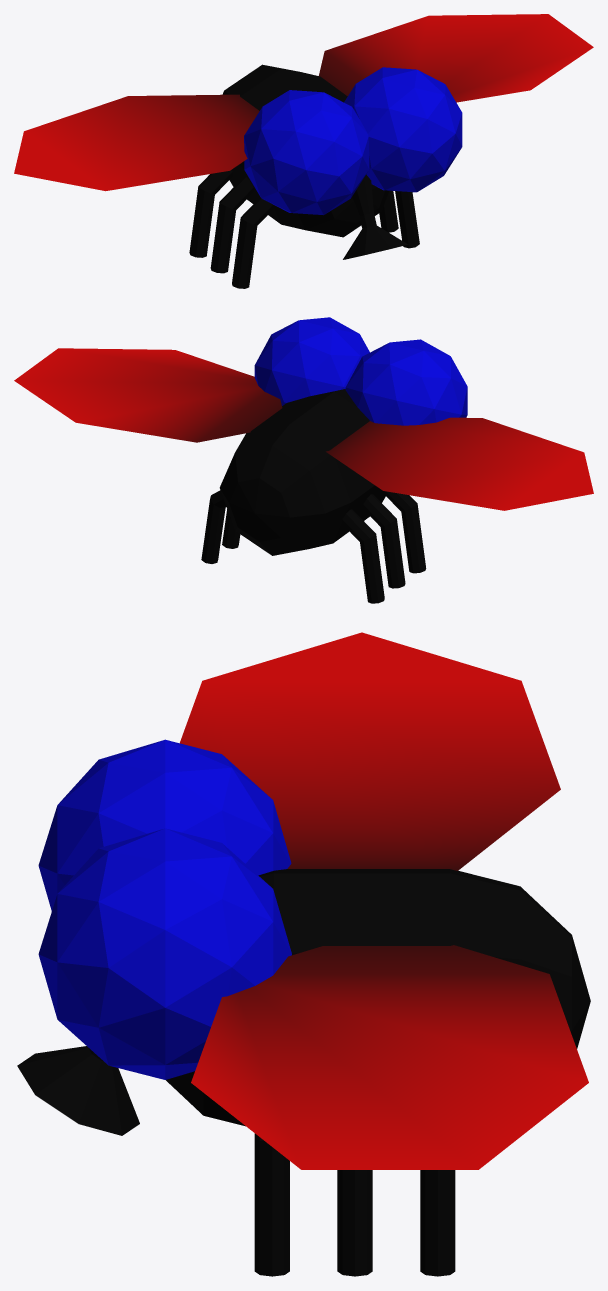
The model's file is fly.fbx.
3 views of the same model, one above another, from view 1: azimuth 30°, elevation 25°; view 2: azimuth 150°, elevation 25°; view 3: azimuth 270°, elevation 25° (orthographic). The views are drawn at different scales.
Visible parts, largest first — view 1: cartoon_fly; view 2: cartoon_fly; view 3: cartoon_fly.
Boxes of the visible parts, x1,y1,x2,y2 form: cartoon_fly: (14,14,593,288); cartoon_fly: (14,317,593,603); cartoon_fly: (17,632,590,1276).
Size of the model in its own units: 722 by 246 by 326.
